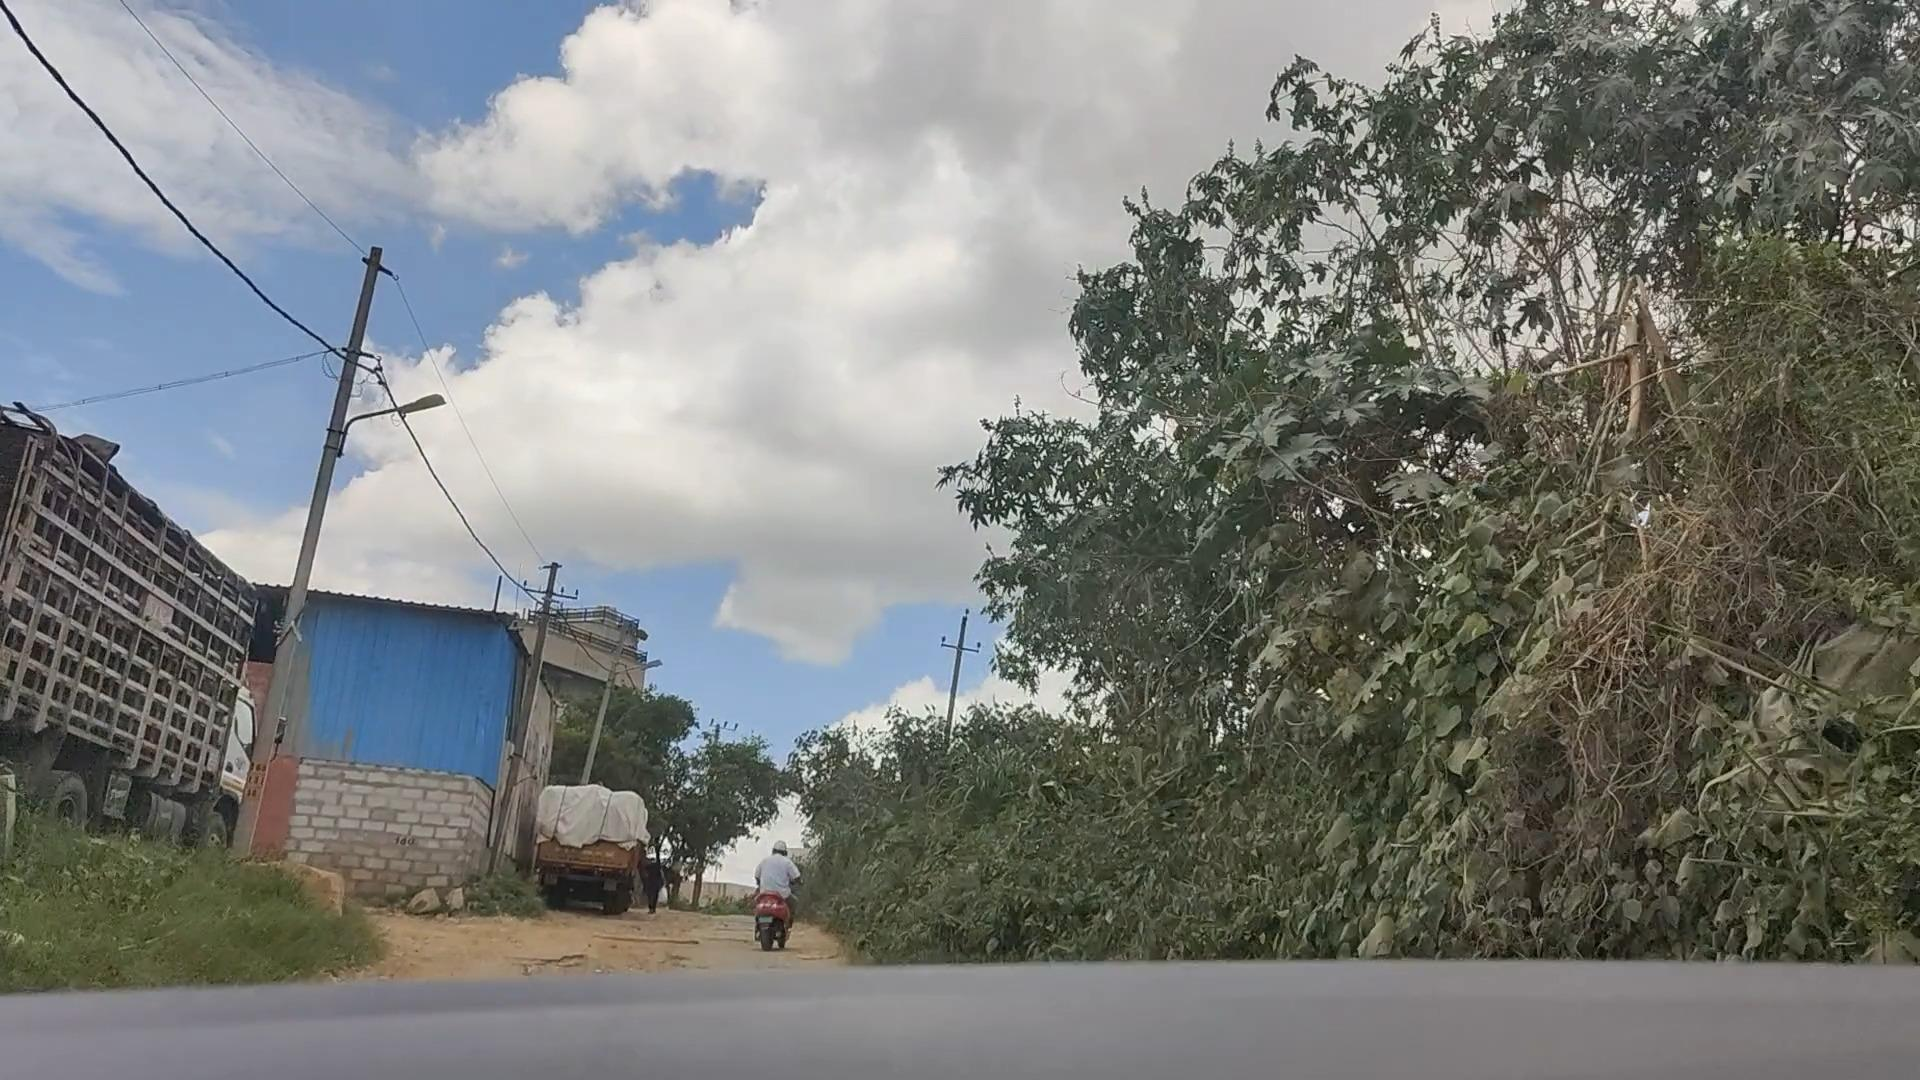RoadDamages: (513, 923, 750, 980)
